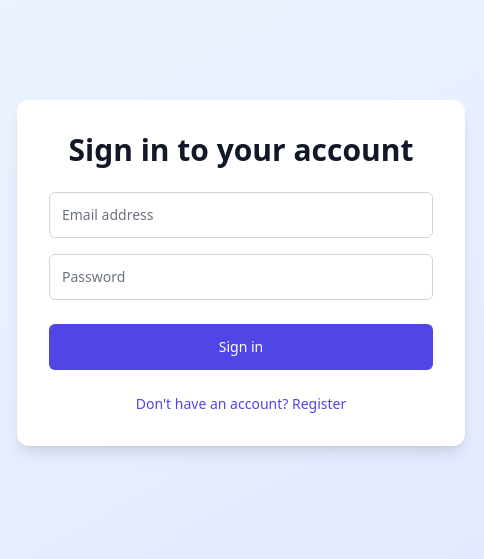
Test: Authentication › should show error with mismatched passwords
The image size is (484, 559).
Click the link "Don't have an account? Register" at (242, 404), box [136, 394, 347, 413]
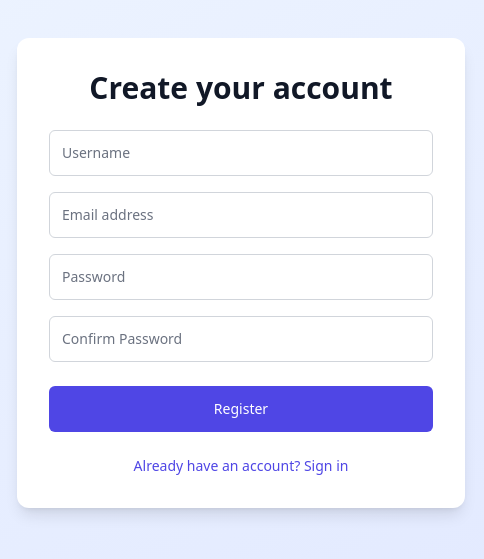
# Fill in registration form with mismatched passwords
Type "Test User" into the field with placeholder "Username" at (241, 153), box [49, 130, 433, 176]
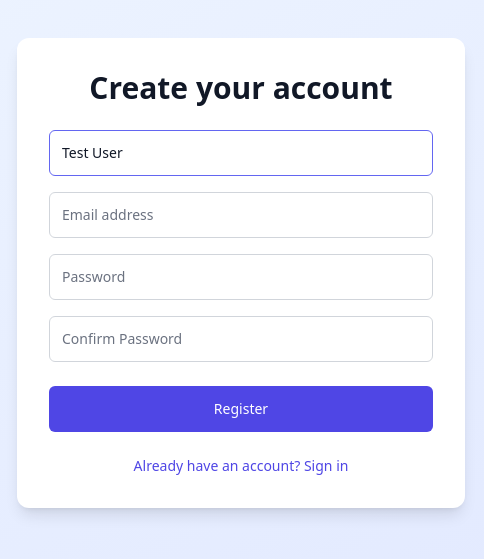
Type "test@example.com" into the field with placeholder "Email address" at (241, 215), box [49, 192, 433, 238]
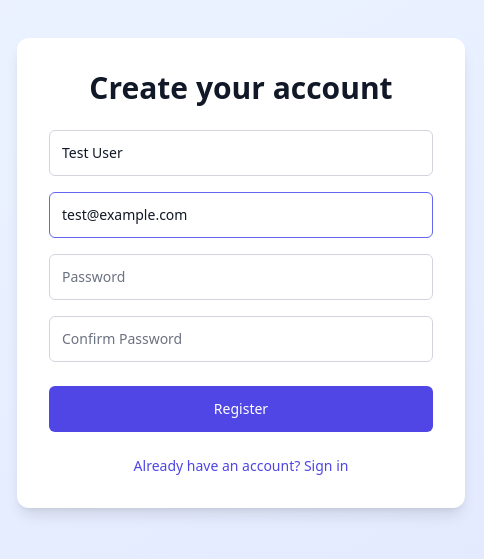
Type "password123" into the password field with placeholder "Password" at (241, 277), box [49, 254, 433, 300]
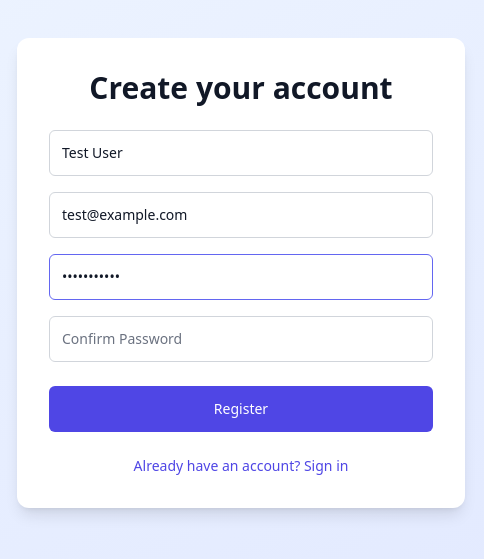
Type "differentpassword" into the password field with placeholder "Confirm Password" at (241, 339), box [49, 316, 433, 362]
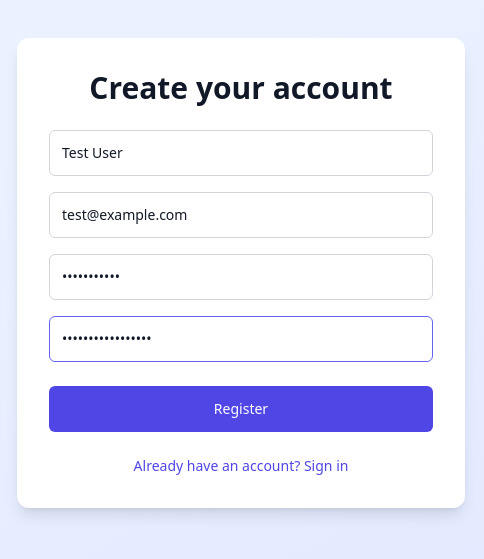
Click the button "Register" at (241, 409), box [49, 386, 433, 432]
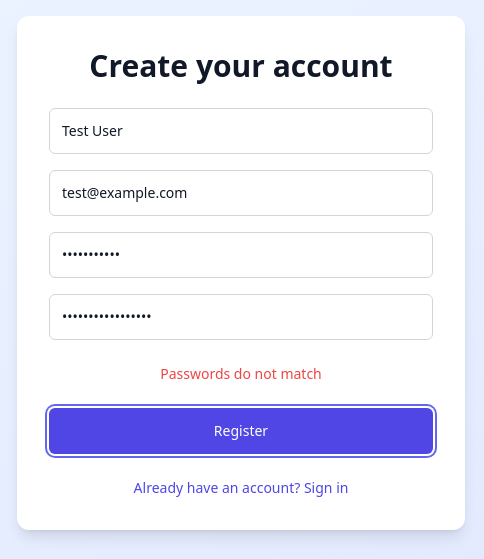
Result: the text "Passwords do not match" is shown at [160, 364, 322, 383]
